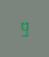nine: (19, 20, 28, 37)
